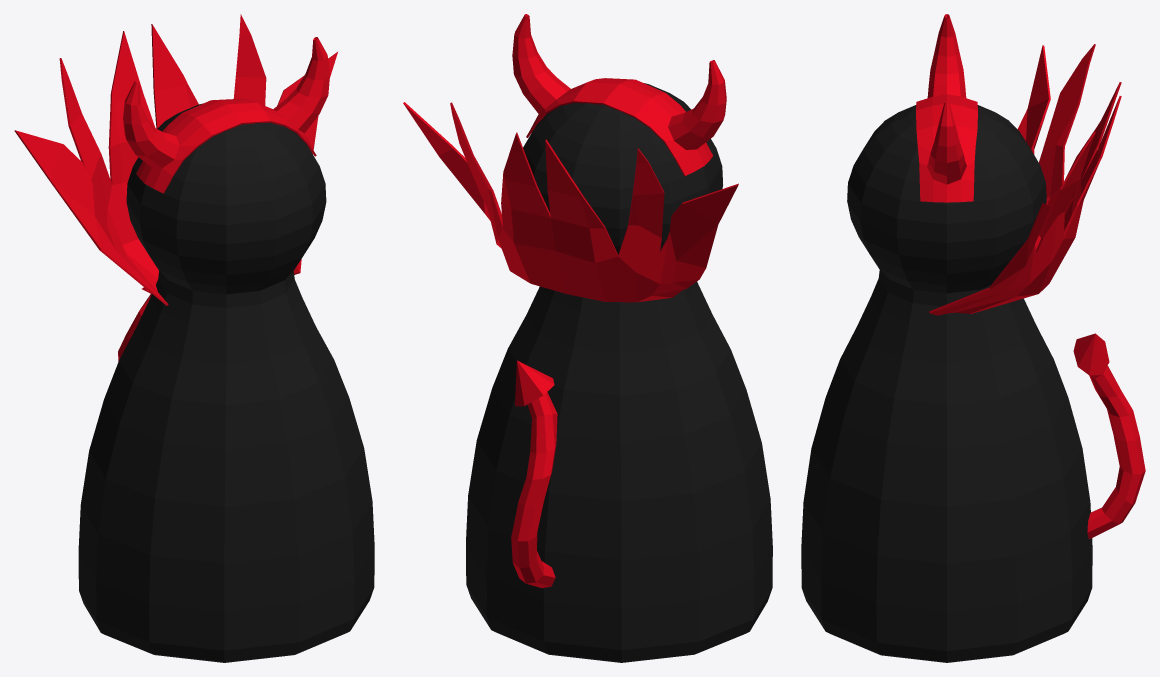
The model's file is Character_Evil.fbx.
3 renders of one model, left to right at view 1: azimuth 30°, elevation 25°; view 2: azimuth 150°, elevation 25°; view 3: azimuth 270°, elevation 25°, orthographic. The views are drawn at different scales.
Parts seen in each view (by area): view 1: rabinho.001; view 2: rabinho.001; view 3: rabinho.001.
Part boxes in pixels (bbox=[...]): rabinho.001: bbox=[14, 14, 374, 662]; rabinho.001: bbox=[403, 14, 772, 662]; rabinho.001: bbox=[801, 14, 1145, 662].
Size of the model in its own units: 370 by 596 by 341.
